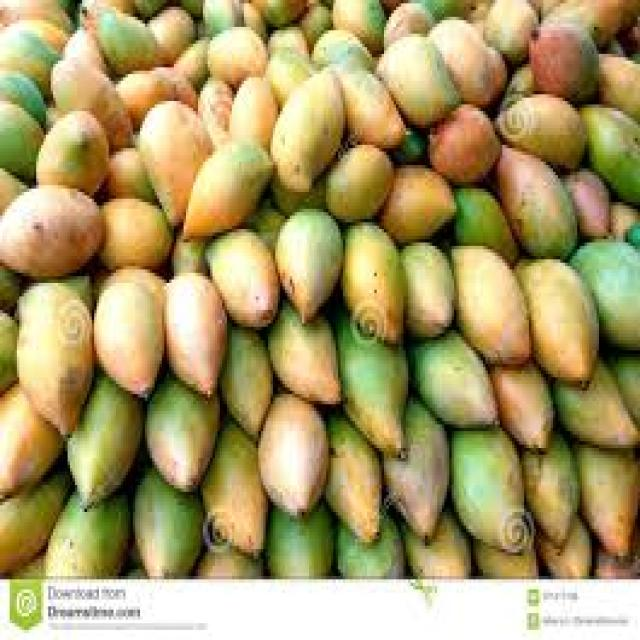mango: (92, 266, 167, 404)
